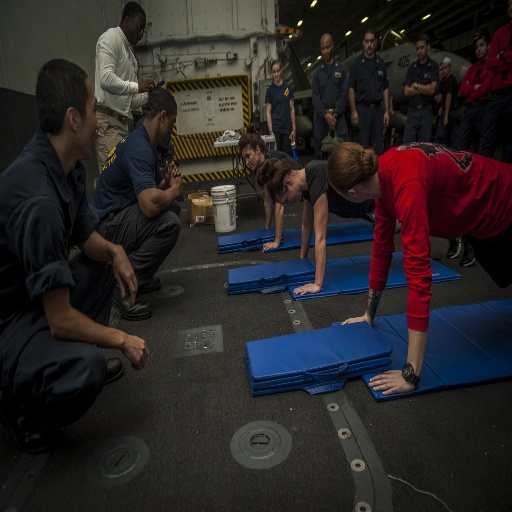hand: (91, 326, 145, 378), (110, 244, 140, 308), (368, 365, 411, 393), (123, 333, 150, 372), (163, 158, 182, 186), (168, 161, 182, 198), (292, 282, 320, 296), (140, 75, 157, 93), (341, 315, 370, 323), (262, 242, 279, 254), (325, 112, 336, 128), (382, 111, 390, 128), (350, 111, 357, 126), (288, 128, 295, 141)
